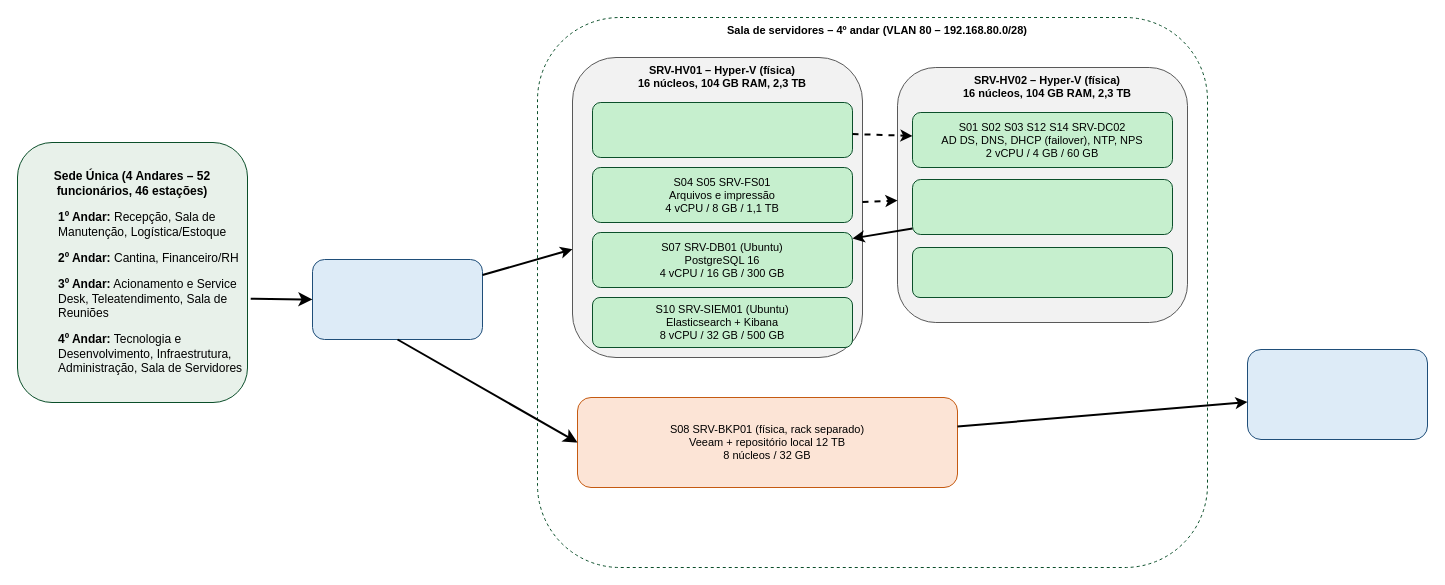
The diagram is 1445 pixels wide and 585 high, and some of its shapes have lost their labels. Each missing label, with the centre of its shape:
"Cópia externa (fora da sala) nuvem – bucket imutável (14 d / 4 sem / 12 meses)" goes at pixel 1337 394.
"S01 S02 S03 S12 S14 SRV-DC01 AD DS, DNS, DHCP, NTP, NPS 2 vCPU / 4 GB / 60 GB" goes at pixel 722 130.
"S06 SRV-APP01 ERP / WMS / TMS 4 vCPU / 16 GB / 150 GB" goes at pixel 1042 206.
"S09 SRV-MON01 (Ubuntu) Zabbix 7.0 + Grafana 4 vCPU / 8 GB / 150 GB" goes at pixel 1042 272.
"S13 Roteador + firewall Switch central 10 VLANs (10 a 100)" goes at pixel 397 299.
